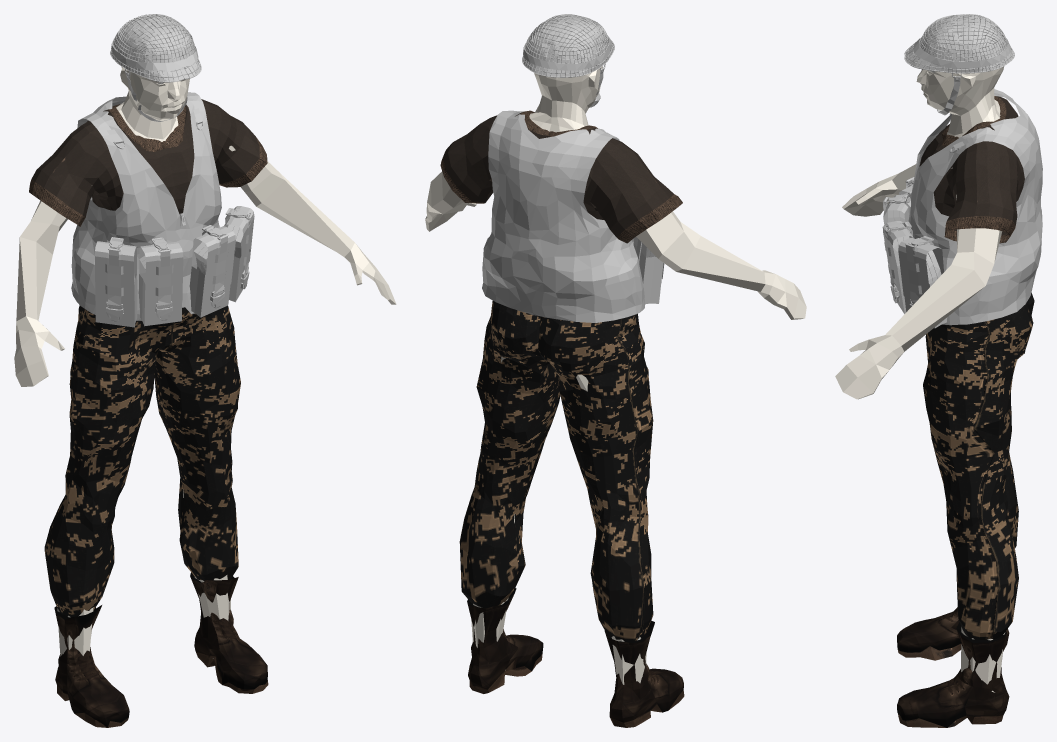
Rendered from soldier3.fbx.
3 renders of one model, left to right at view 1: azimuth 30°, elevation 25°; view 2: azimuth 150°, elevation 25°; view 3: azimuth 270°, elevation 25°, orthographic.
Parts seen in each view (by area): view 1: soldier3; view 2: soldier3; view 3: soldier3.
Part boxes in pixels (x1,y1,x2,y2): soldier3: (14, 14, 396, 727); soldier3: (425, 14, 806, 727); soldier3: (835, 14, 1042, 727).
Bounding box in the file's own units: 329 × 566 × 160.
